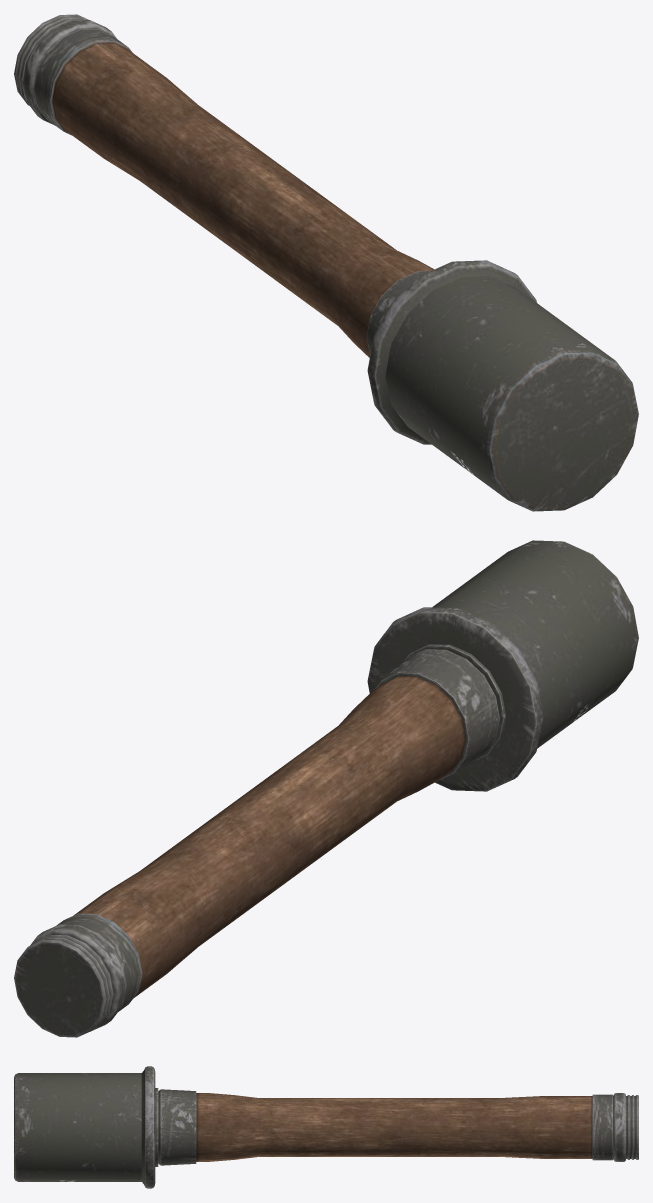
Rendered from m24grenade.glb.
The picture shows the model from 3 angles, top to bottom: view 1: azimuth 30°, elevation 25°; view 2: azimuth 150°, elevation 25°; view 3: azimuth 270°, elevation 25°; orthographic projection. The views are drawn at different scales.
Visible parts, largest first — view 1: Cylinder_1; view 2: Cylinder_1; view 3: Cylinder_1.
Part boxes in pixels (left/top/right/bottom): Cylinder_1: left=14, top=14, right=638, bottom=511; Cylinder_1: left=14, top=540, right=638, bottom=1037; Cylinder_1: left=14, top=1066, right=638, bottom=1188.
Bounding box in the file's own units: 0.0918 × 0.0918 × 0.468.
1 material, 1 textured.
